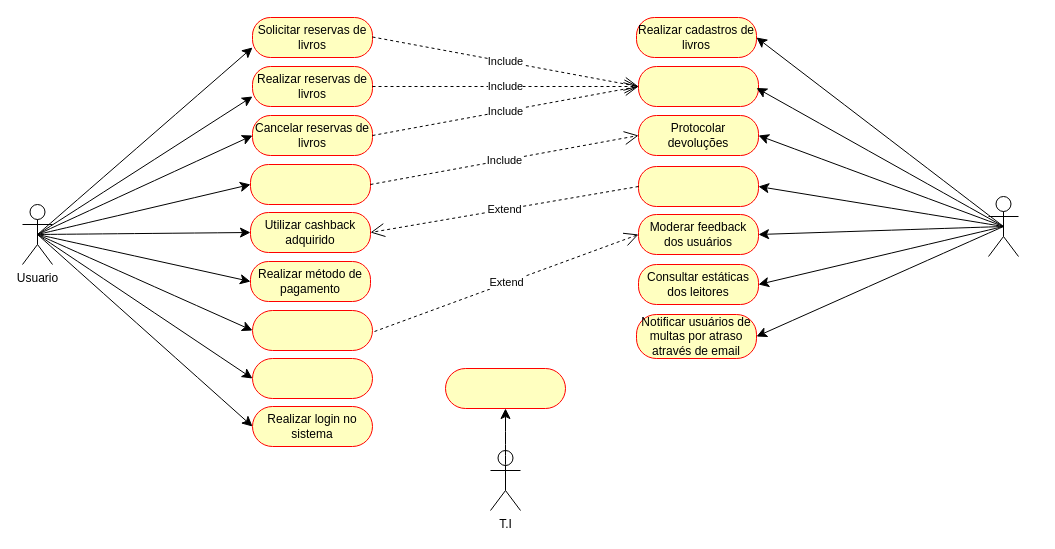
This 1055x549 diagram has some shape labels left out. Each missing label, with the centre of its shape:
"Bibliotecário" goes at point 1003,226.
"Confirmar alteração no sistema" goes at point 698,86.
"Consultar estatísticas de leituras pessoais" goes at point 312,378.
"Fornecer cashback para usuário" goes at point 698,186.
"Gerenciar armazenamento dos dados" goes at point 505,388.
"Realizar devolução de livros" goes at point 310,184.
"Realizar feedback da obra que foi lida" goes at point 312,330.
